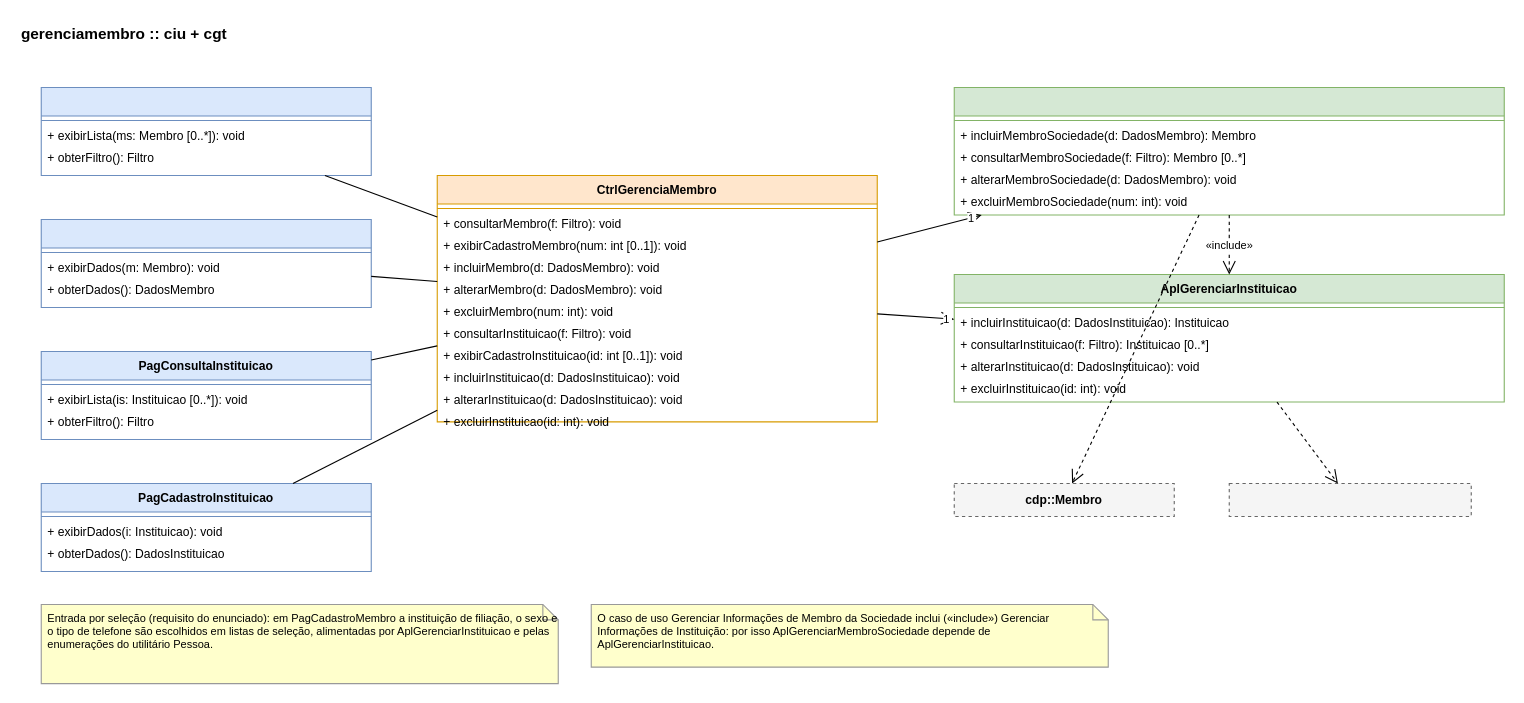
Image size: 1524x703. Some labels were removed from this diagram. Each missing label, with the box of its shape:
AplGerenciarMembroSociedade: (953, 86, 1504, 215)
cdp::Instituicao: (1228, 482, 1471, 516)
PagCadastroMembro: (40, 218, 371, 307)
PagConsultaMembro: (40, 86, 371, 175)
